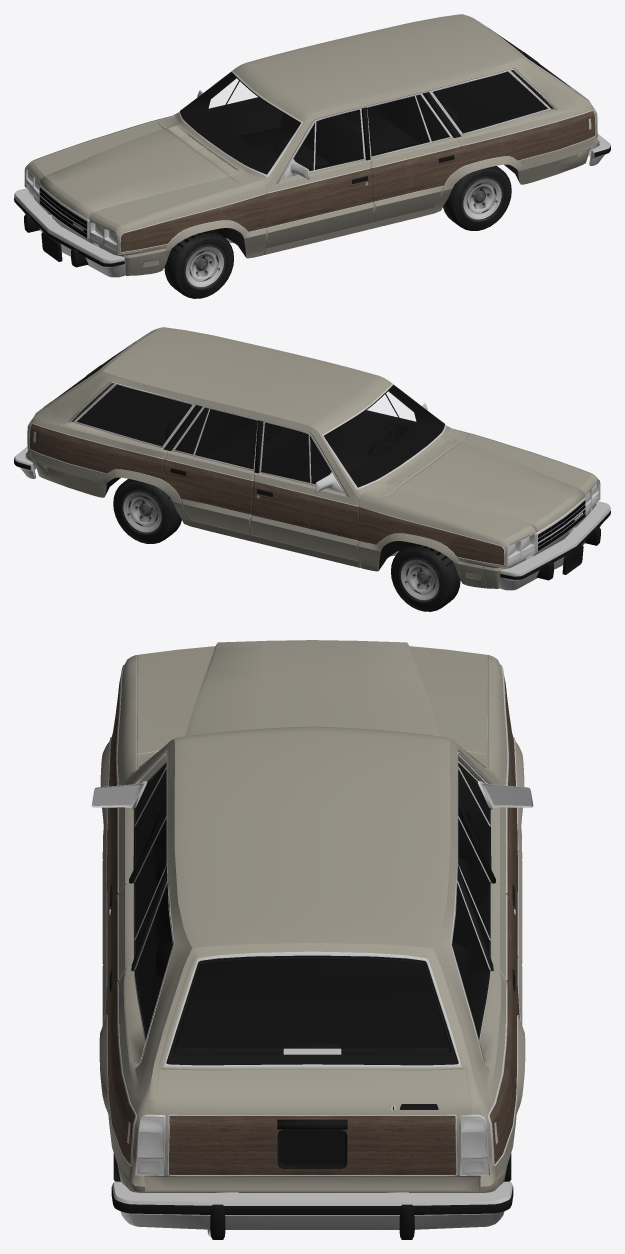
3 views of the same model, one above another, from view 1: azimuth 30°, elevation 25°; view 2: azimuth 150°, elevation 25°; view 3: azimuth 270°, elevation 25° (orthographic). The views are drawn at different scales.
Parts seen in each view (by area): view 1: body_saloon_body_0, interior_void_frmnt_void_0, hood_saloon_body_0, woodtrim_woodtrim_0, wheel_008_Material #1814_0, chrome_trim_frmnt_chrome_0, plastictrim_frmnt_plastic_0, bumper_front_frmnt_chrome_0, bumper_front_frmnt_plastic_0, grill_chrome_frmnt_chrome_0, grill_ucb_grill_0, glass_frmnt_glass_0 (+2 smaller); view 2: body_saloon_body_0, interior_void_frmnt_void_0, hood_saloon_body_0, woodtrim_woodtrim_0, wheel_008_Material #1814_0, chrome_trim_frmnt_chrome_0, plastictrim_frmnt_plastic_0, bumper_front_frmnt_chrome_0, bumper_front_frmnt_plastic_0, grill_chrome_frmnt_chrome_0, grill_ucb_grill_0, glass_frmnt_glass_0 (+2 smaller); view 3: body_saloon_body_0, interior_void_frmnt_void_0, hood_saloon_body_0, woodtrim_woodtrim_0, chrome_trim_frmnt_chrome_0, plastictrim_frmnt_plastic_0, bumper_rear_frmnt_chrome_0, bumper_rear_frmnt_plastic_0, stoplights.
Boxes of the visible parts, <box> form: body_saloon_body_0: <box>24,14,599,275</box>; interior_void_frmnt_void_0: <box>181,72,547,173</box>; hood_saloon_body_0: <box>27,121,243,231</box>; woodtrim_woodtrim_0: <box>120,111,595,251</box>; wheel_008_Material #1814_0: <box>164,166,511,298</box>; chrome_trim_frmnt_chrome_0: <box>120,16,597,266</box>; plastictrim_frmnt_plastic_0: <box>180,18,571,184</box>; bumper_front_frmnt_chrome_0: <box>14,188,125,277</box>; bumper_front_frmnt_plastic_0: <box>14,198,124,267</box>; grill_chrome_frmnt_chrome_0: <box>25,167,117,252</box>; grill_ucb_grill_0: <box>39,70,552,237</box>; glass_frmnt_glass_0: <box>209,79,256,107</box>; body_saloon_body_0: <box>25,327,600,588</box>; interior_void_frmnt_void_0: <box>77,385,443,486</box>; hood_saloon_body_0: <box>381,434,597,544</box>; woodtrim_woodtrim_0: <box>29,424,504,564</box>; wheel_008_Material #1814_0: <box>113,479,460,611</box>; chrome_trim_frmnt_chrome_0: <box>27,329,504,579</box>; plastictrim_frmnt_plastic_0: <box>44,331,444,497</box>; bumper_front_frmnt_chrome_0: <box>499,501,610,590</box>; bumper_front_frmnt_plastic_0: <box>500,511,610,580</box>; grill_chrome_frmnt_chrome_0: <box>507,480,599,565</box>; grill_ucb_grill_0: <box>72,383,585,550</box>; glass_frmnt_glass_0: <box>368,392,415,420</box>; body_saloon_body_0: <box>99,655,525,1192</box>; interior_void_frmnt_void_0: <box>135,765,489,1048</box>; hood_saloon_body_0: <box>137,640,487,754</box>; woodtrim_woodtrim_0: <box>105,677,519,1174</box>; chrome_trim_frmnt_chrome_0: <box>91,664,533,1176</box>; plastictrim_frmnt_plastic_0: <box>109,750,515,1168</box>; bumper_rear_frmnt_chrome_0: <box>112,1181,512,1229</box>; bumper_rear_frmnt_plastic_0: <box>111,1186,513,1239</box>; stoplights: <box>137,1048,487,1174</box>.
Size of the model in its own units: 196 by 53.7 by 72.15.
